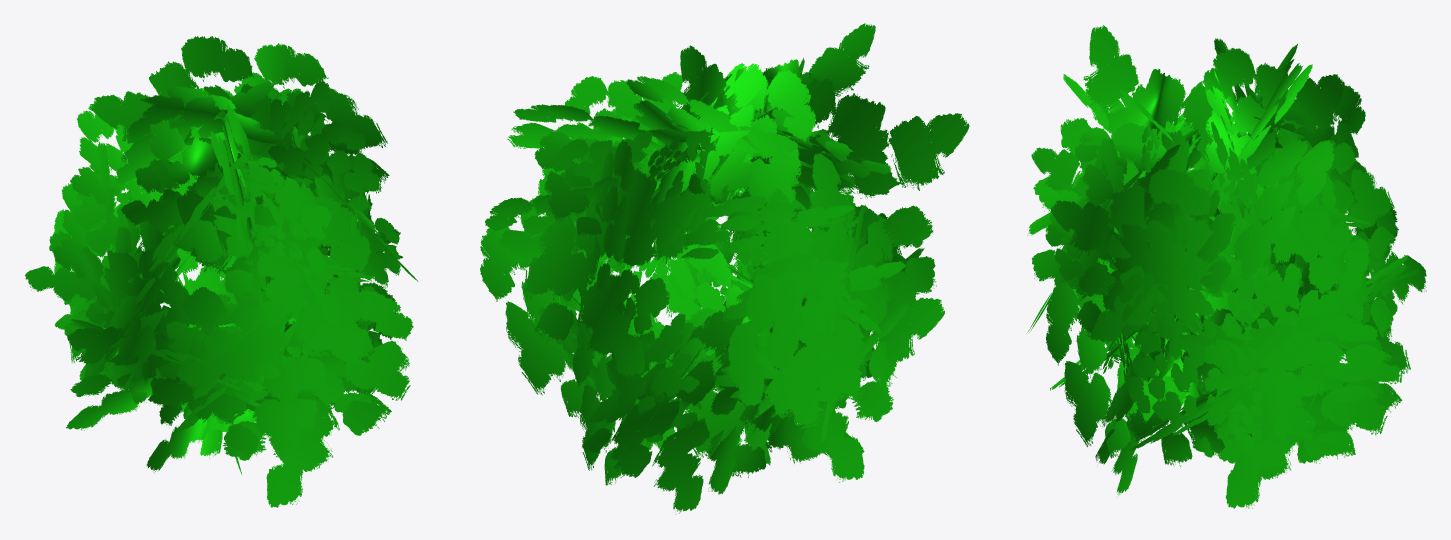
File: SM_BackgroundBush.fbx
3 renders of one model, left to right at view 1: azimuth 30°, elevation 25°; view 2: azimuth 150°, elevation 25°; view 3: azimuth 270°, elevation 25°, orthographic. The views are drawn at different scales.
Parts seen in each view (by area): view 1: LeafBush.011; view 2: LeafBush.011; view 3: LeafBush.011.
Boxes of the visible parts, x1,y1,x2,y2 form: LeafBush.011: (25,36,418,507); LeafBush.011: (480,23,969,514); LeafBush.011: (1027,25,1426,508).
Bounding box in the file's own units: 614 × 678 × 565.
